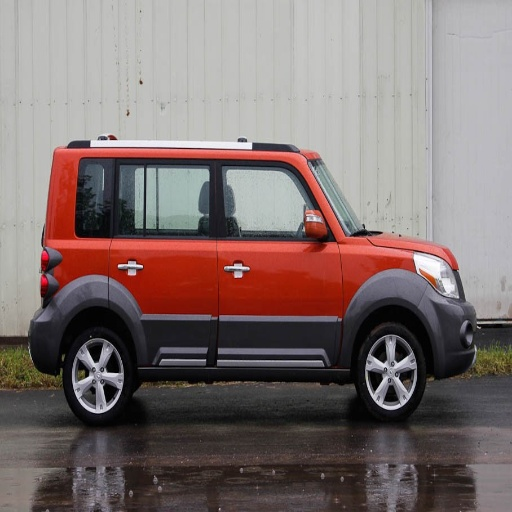back_right_door: (86, 158, 218, 359)
front_right_door: (215, 159, 340, 358)
